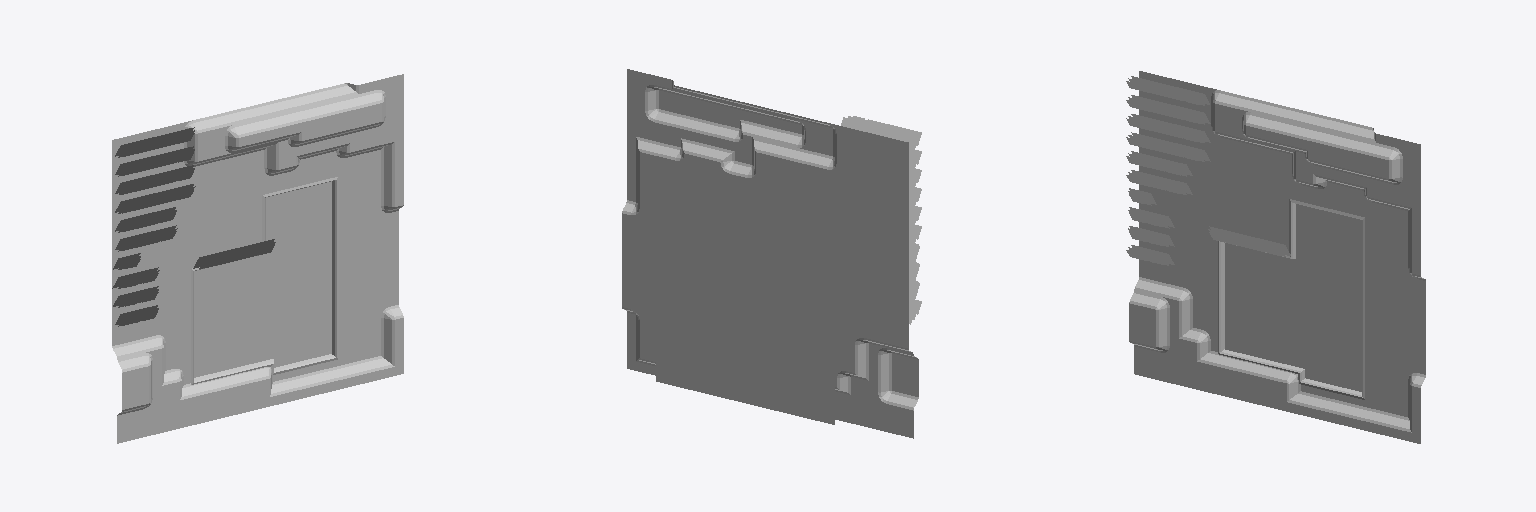
The model's file is Plat_full_07_10.obj.
3 views of the same model, side by side, from view 1: azimuth 30°, elevation 25°; view 2: azimuth 150°, elevation 25°; view 3: azimuth 330°, elevation 25° (orthographic).
Parts seen in each view (by area): view 1: map; view 2: map; view 3: map.
Boxes of the visible parts, x1,y1,x2,y2 form: map: [112, 74, 403, 443]; map: [622, 69, 921, 438]; map: [1126, 71, 1425, 443].
Size of the model in its own units: 32.25 by 32.12 by 4.64.